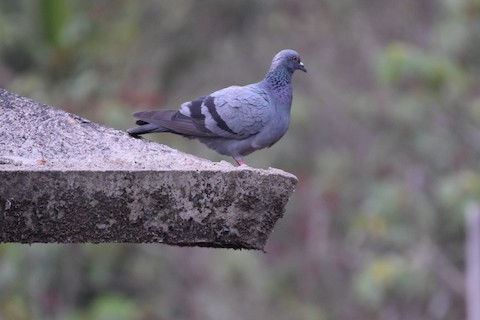pigeon: (121, 34, 312, 167)
